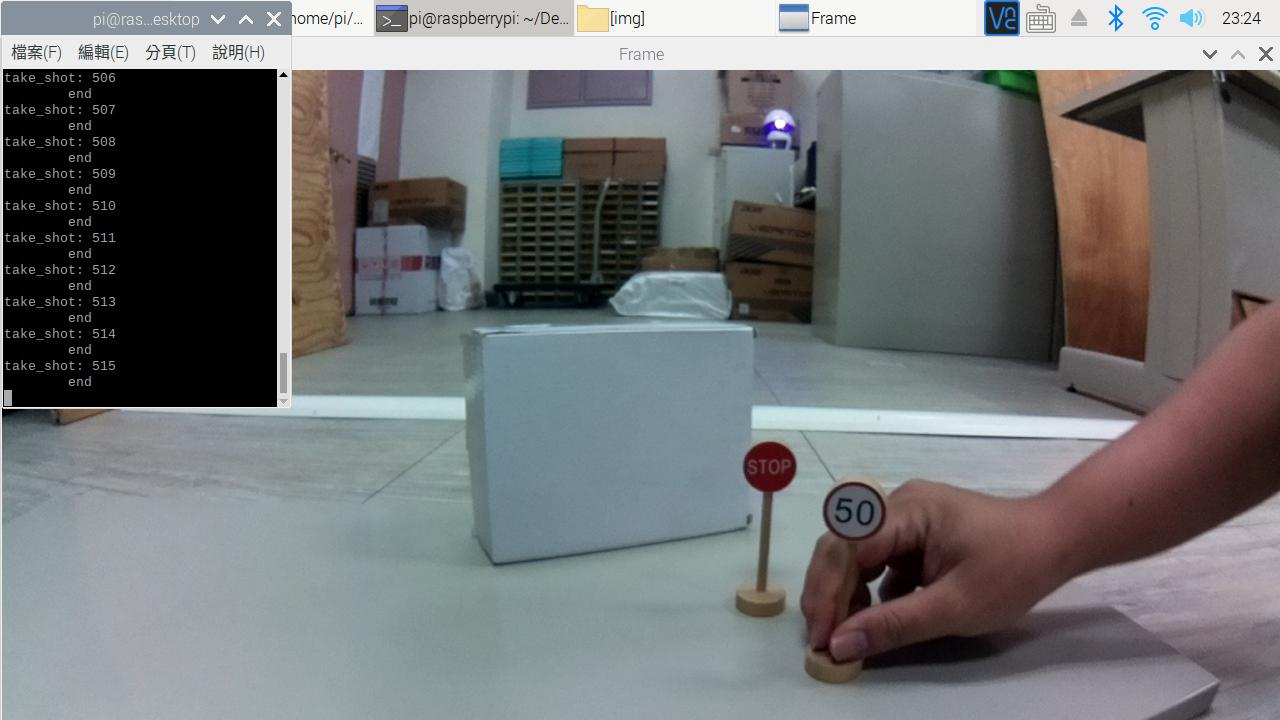Speed50: (825, 472, 887, 540)
Stop: (734, 438, 804, 495)
